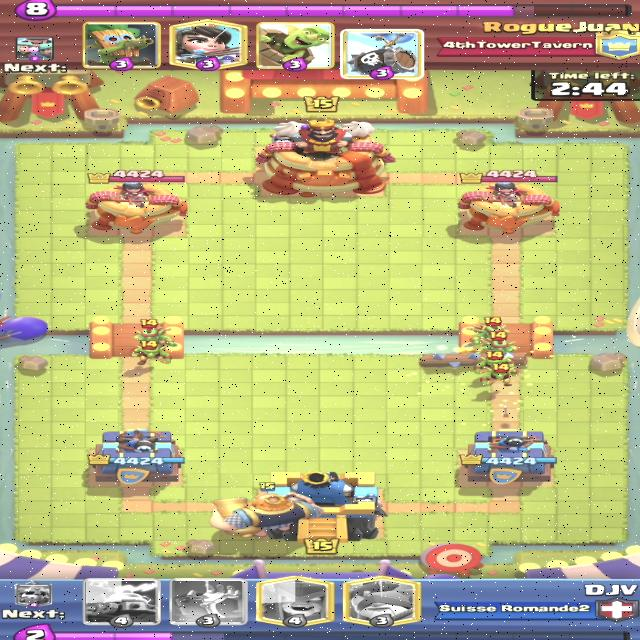Enemy-Goblin: (476, 362, 524, 388), (130, 339, 172, 367), (475, 351, 519, 374)
Enemy-SpearGoblin: (468, 316, 512, 349), (130, 318, 175, 347), (479, 330, 518, 361)
Player-GoblinDrill: (15, 39, 52, 66)
Player-Log: (417, 351, 531, 369)
Player-RoyalGiant: (208, 482, 321, 540)
